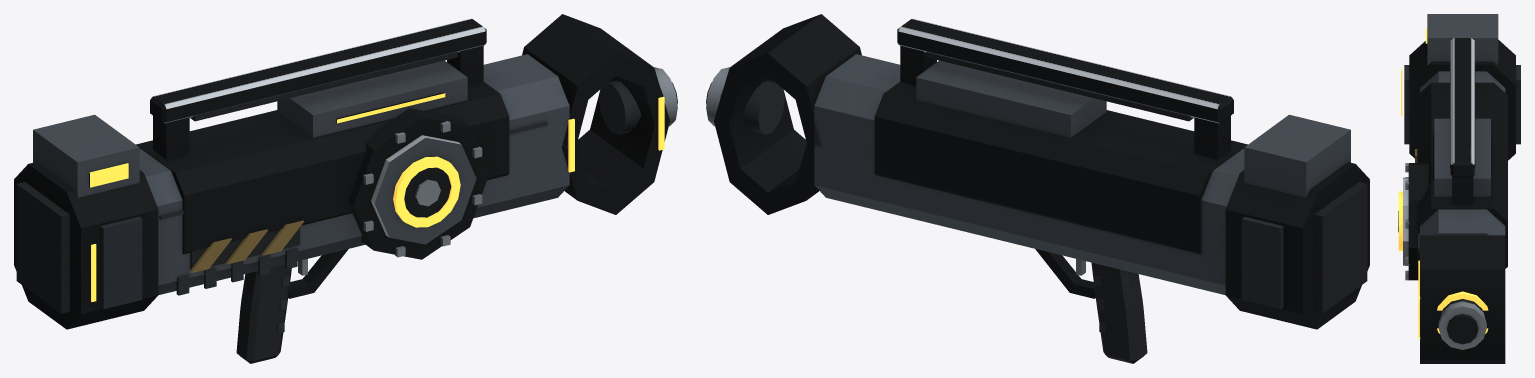
Rendered from opr_wpn_breach_charge_c.glb.
3 renders of one model, left to right at view 1: azimuth 30°, elevation 25°; view 2: azimuth 150°, elevation 25°; view 3: azimuth 270°, elevation 25°, orthographic. The views are drawn at different scales.
Parts seen in each view (by area): view 1: mesh_intact; view 2: mesh_intact; view 3: mesh_intact.
Boxes of the visible parts, x1,y1,x2,y2 form: mesh_intact: (14,14,677,363); mesh_intact: (706,14,1369,363); mesh_intact: (1398,14,1520,363).
Bounding box in the file's own units: 0.813 × 0.347 × 0.173.
1 material, 1 textured.
